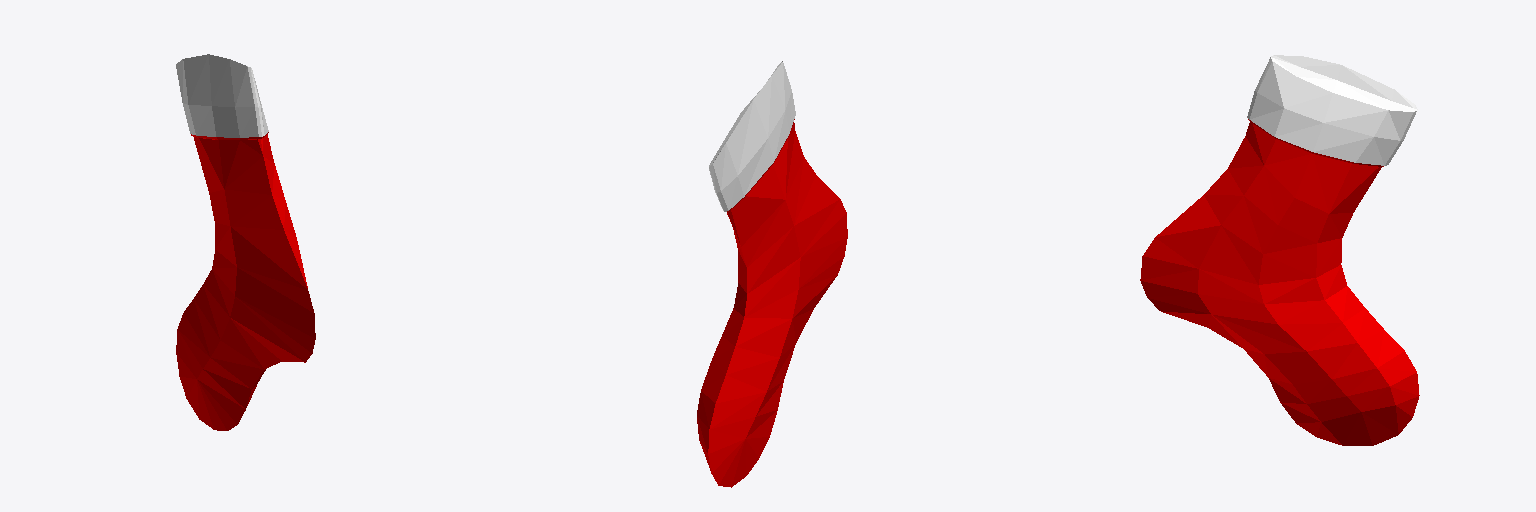
3 views of the same model, side by side, from view 1: azimuth 30°, elevation 25°; view 2: azimuth 150°, elevation 25°; view 3: azimuth 270°, elevation 25° (orthographic).
Parts seen in each view (by area): view 1: Calcetin1_001_norvedem_sock_002_red, Calcetin1_001_norvedem_sock_002_Blanco; view 2: Calcetin1_001_norvedem_sock_002_red, Calcetin1_001_norvedem_sock_002_Blanco; view 3: Calcetin1_001_norvedem_sock_002_red, Calcetin1_001_norvedem_sock_002_Blanco.
Part boxes in pixels (x1,y1,x2,y2): Calcetin1_001_norvedem_sock_002_red: (176, 132, 315, 430); Calcetin1_001_norvedem_sock_002_Blanco: (176, 54, 268, 137); Calcetin1_001_norvedem_sock_002_red: (697, 61, 847, 487); Calcetin1_001_norvedem_sock_002_Blanco: (709, 62, 795, 211); Calcetin1_001_norvedem_sock_002_red: (1140, 56, 1419, 445); Calcetin1_001_norvedem_sock_002_Blanco: (1247, 55, 1416, 165).
Bounding box in the file's own units: 0.3276 × 2.37 × 1.53.
2 materials, 2 textured.